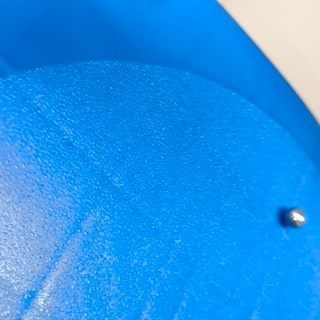ironball: (282, 198, 309, 232)
